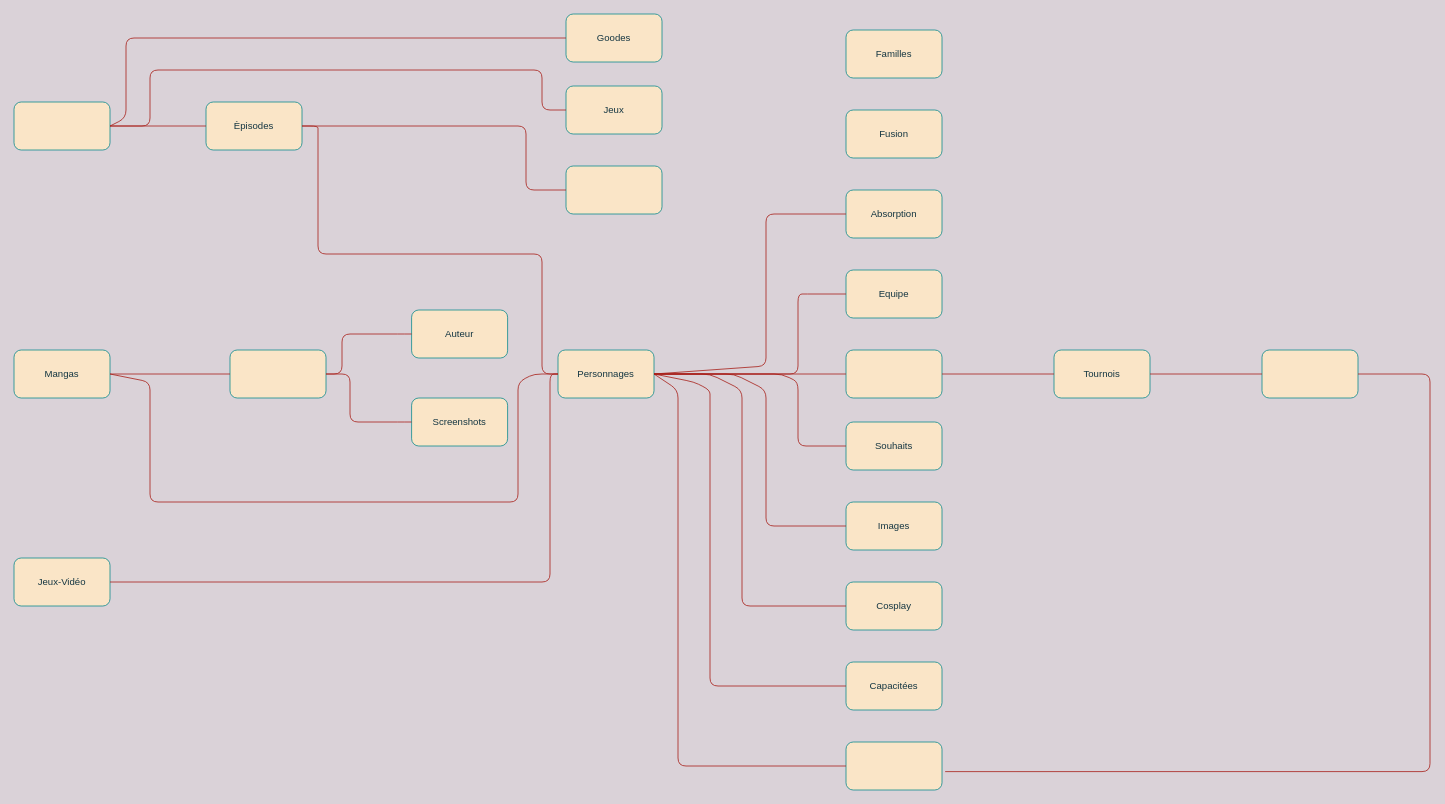
This 1445x804 diagram has some shape labels left out. Each missing label, with the box of its shape:
Generique: (565, 165, 662, 214)
Lieu: (1261, 349, 1358, 398)
Match: (845, 349, 942, 398)
Planets: (845, 741, 942, 790)
Série Animé: (13, 101, 110, 150)
Tomes: (229, 349, 326, 398)
